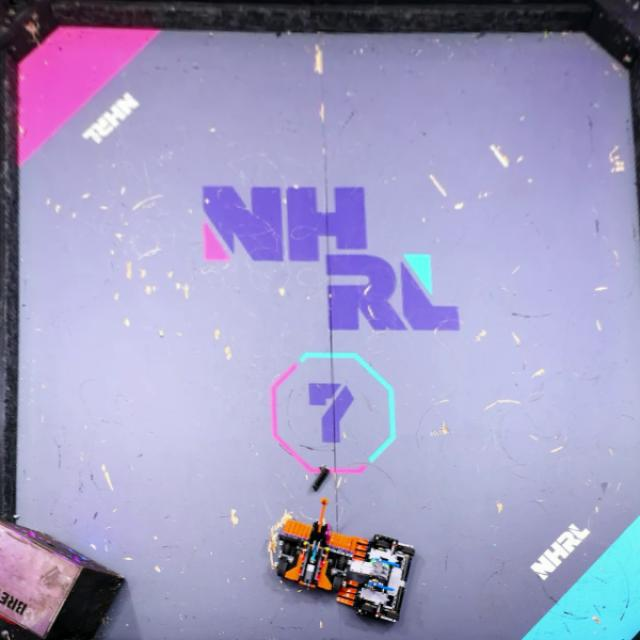housebot: (0, 522, 128, 640)
robot: (276, 496, 356, 594), (336, 533, 416, 626)
